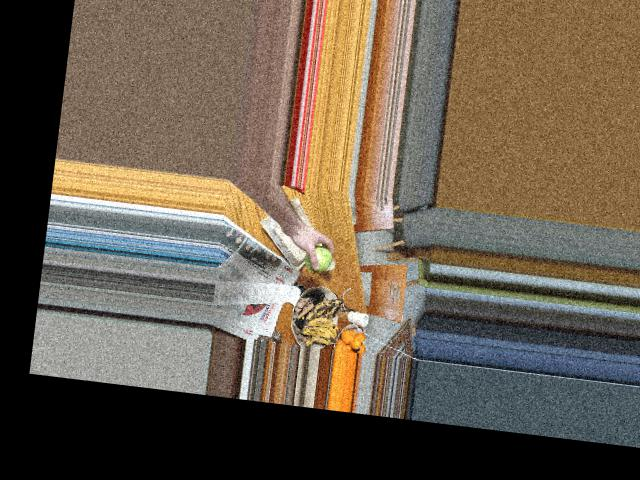apple: (297, 240, 336, 274)
